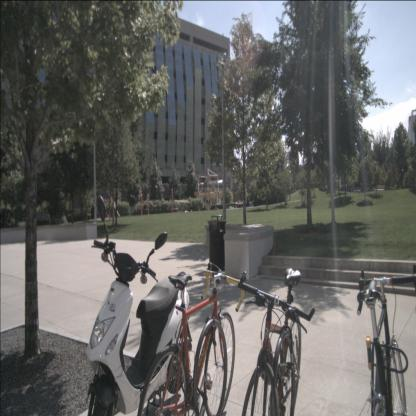vehicle-motorcycle: (86, 194, 192, 416)
